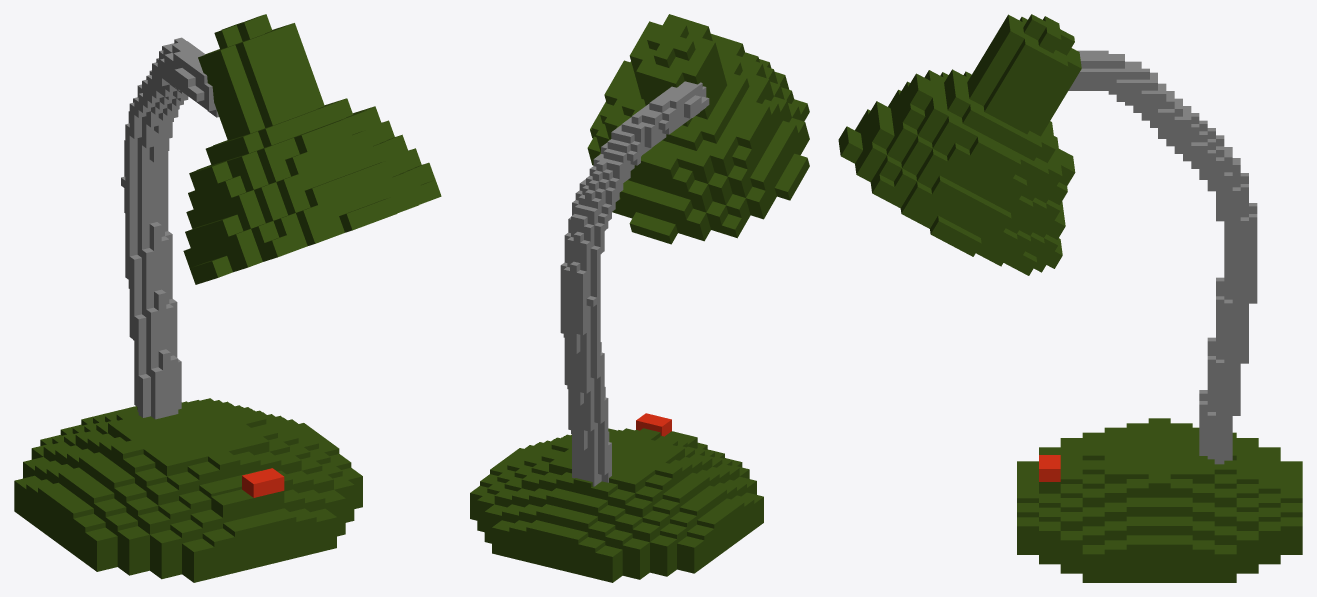
The model's file is Lamp.fbx.
The picture shows the model from 3 angles, left to right: view 1: azimuth 30°, elevation 25°; view 2: azimuth 150°, elevation 25°; view 3: azimuth 270°, elevation 25°; orthographic projection. The views are drawn at different scales.
Parts seen in each view (by area): view 1: BezierCurve; view 2: BezierCurve; view 3: BezierCurve.
Part boxes in pixels (x1,y1,x2,y2): BezierCurve: [14, 14, 441, 582]; BezierCurve: [470, 14, 809, 582]; BezierCurve: [838, 14, 1302, 582].
Size of the model in its own units: 109 by 213 by 178.
